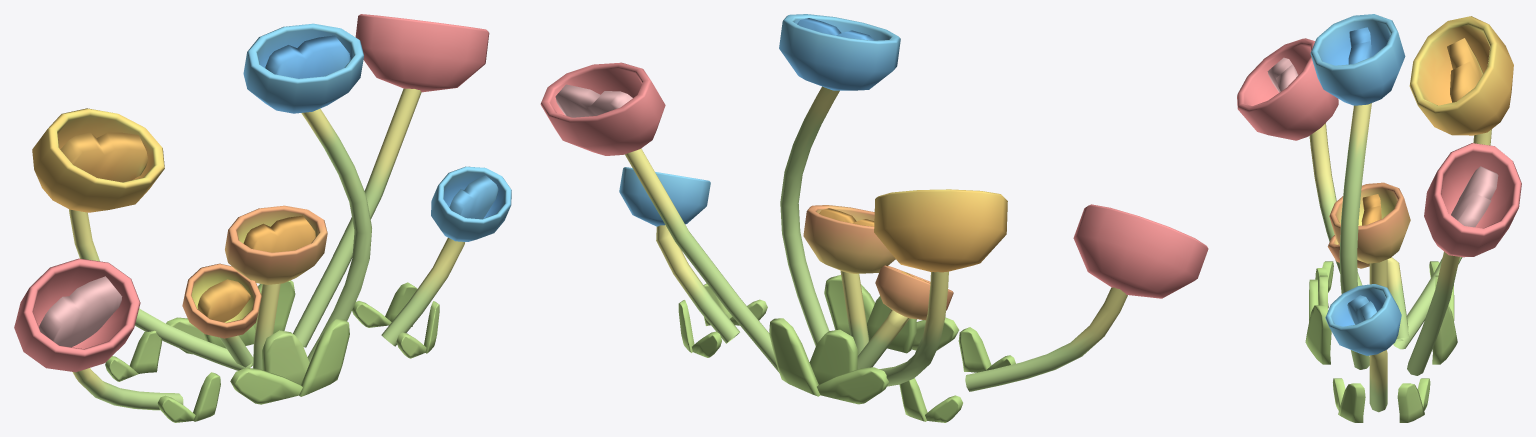
Rendered from Flower6_Textured.fbx.
3 renders of one model, left to right at view 1: azimuth 30°, elevation 25°; view 2: azimuth 150°, elevation 25°; view 3: azimuth 270°, elevation 25°, orthographic. The views are drawn at different scales.
Parts seen in each view (by area): view 1: Flower6_Textured; view 2: Flower6_Textured; view 3: Flower6_Textured.
Boxes of the visible parts, box(x1,y1,x2,y2) form: Flower6_Textured: box(14, 14, 511, 422); Flower6_Textured: box(540, 14, 1208, 422); Flower6_Textured: box(1237, 14, 1521, 422).
Size of the model in its own units: 77.89 by 45.54 by 35.02.
Materials: 7 (7 with a texture image).
